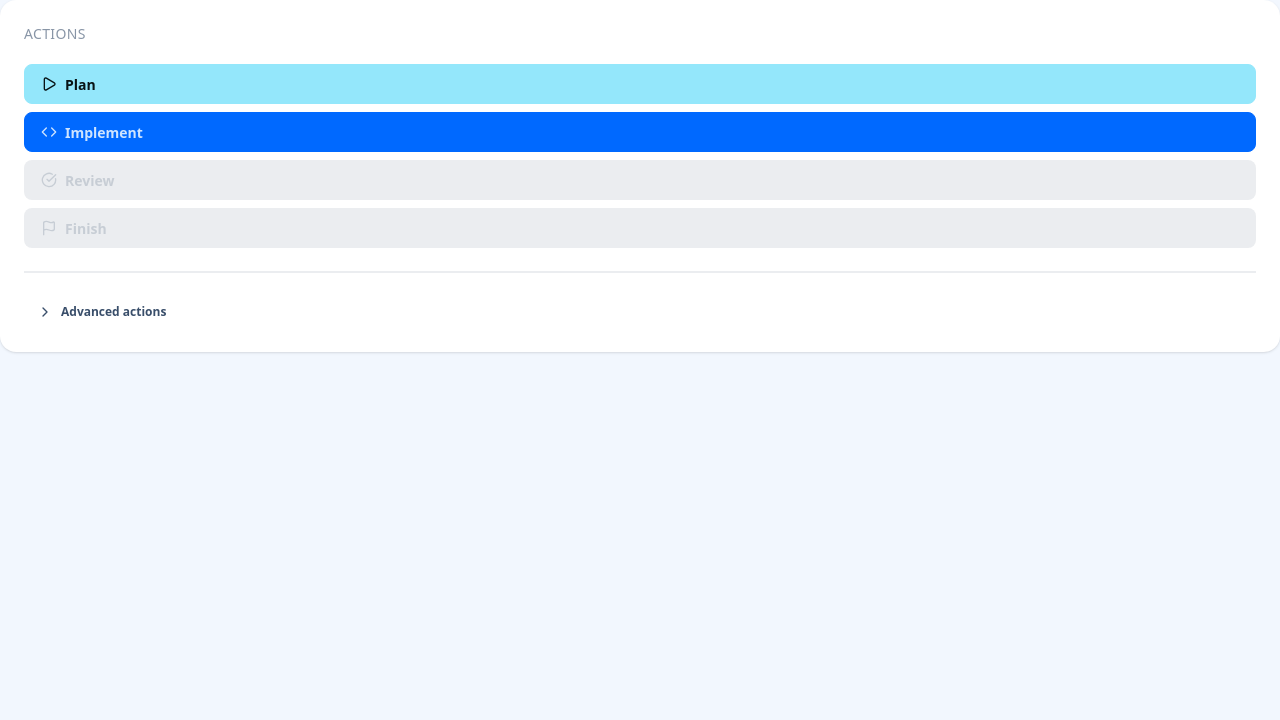
Test: WorkflowActions › resets implement options when advanced actions toggled off
Show advanced actions and options
Click the button "Advanced actions" at coordinates (114, 312), box [24,296,1256,328]
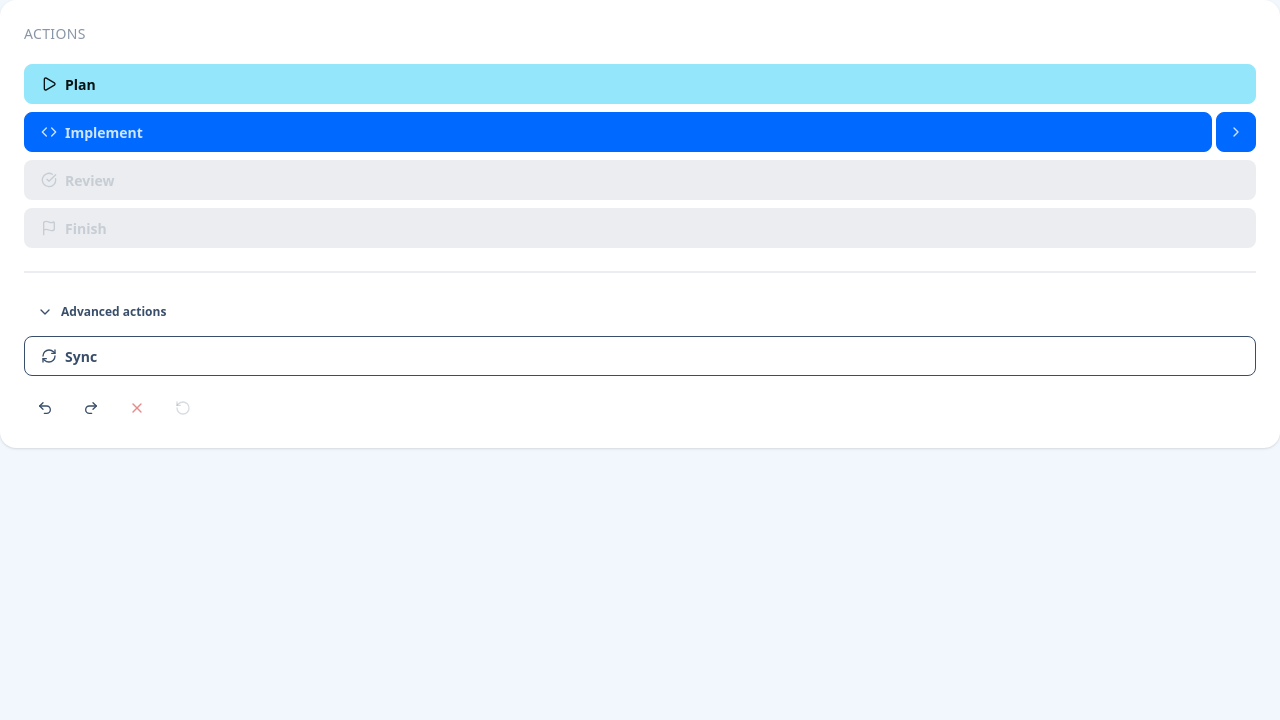
Click the button named "implementation options" at coordinates (1236, 132), box [1216,112,1256,152]
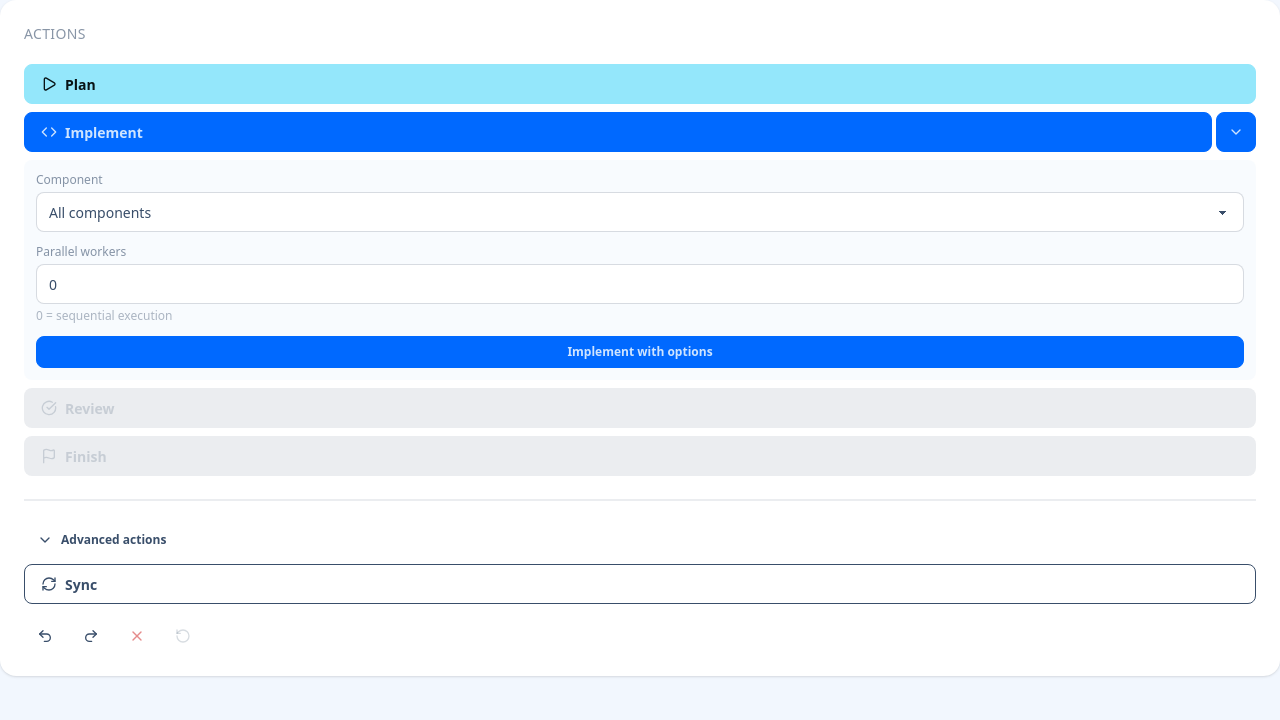
Result: the dropdown labelled "Component" is shown at [36,192,1244,232]
Toggle off advanced actions
Click the button "Advanced actions" at coordinates (114, 540), box [24,524,1256,556]
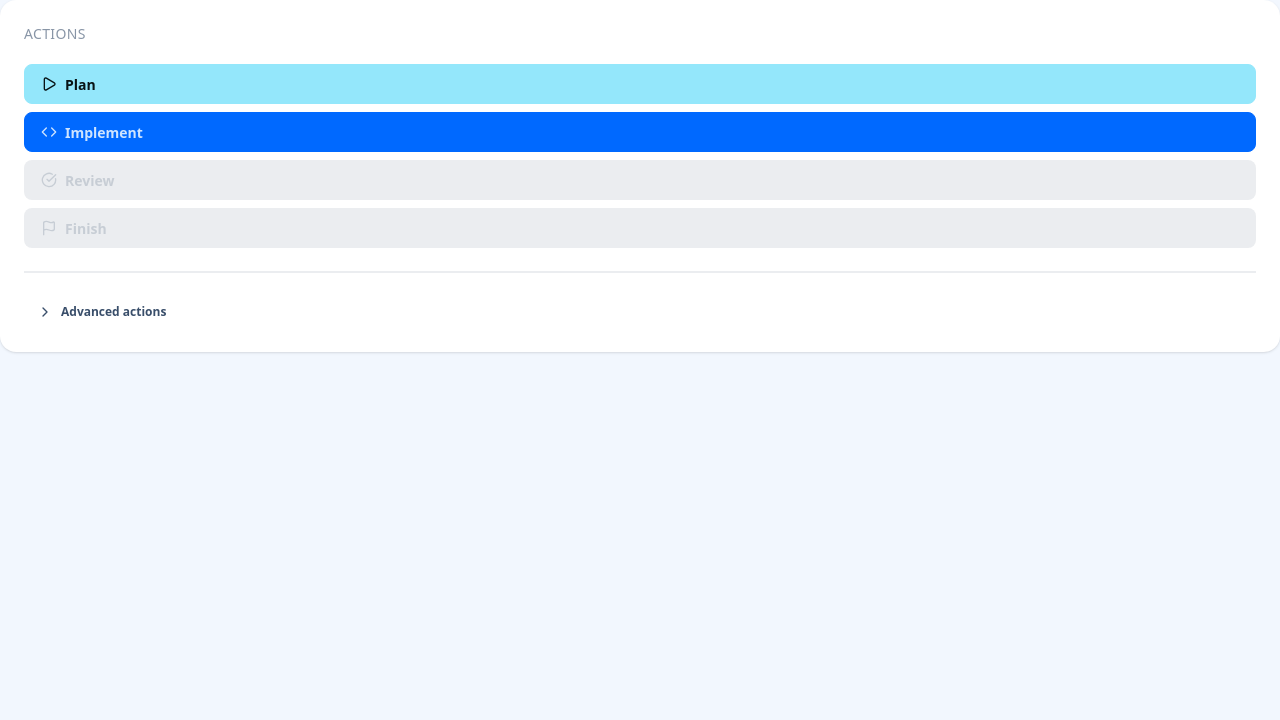
Result: the label labelled "Component" is gone
